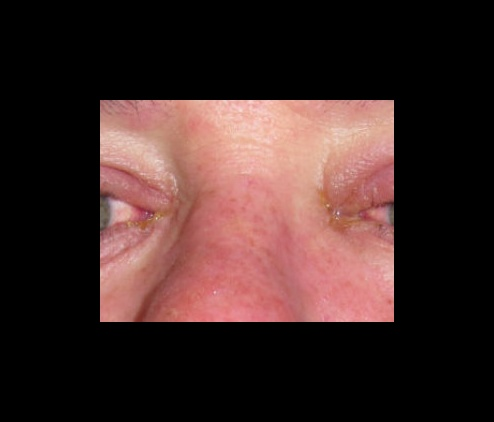SJS-TEN: (310, 170, 393, 254), (110, 194, 187, 241)
